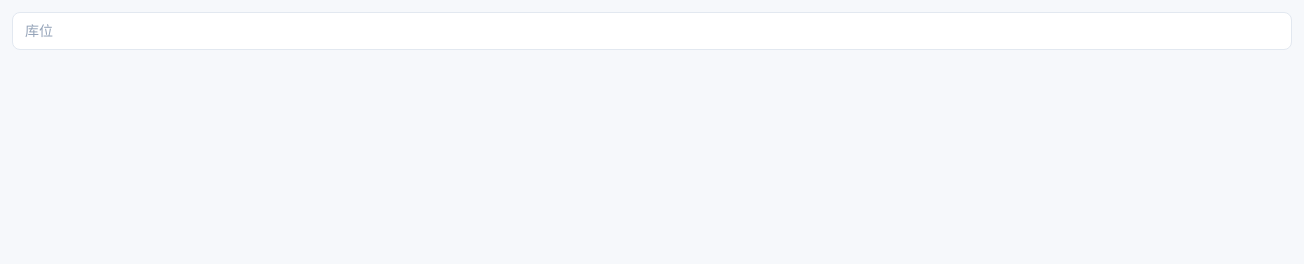
Test case: SuggestInput（库位候选输入） › 聚焦后展示候选，且符合 combobox 语义
Step 1. Click the dropdown → (652, 31), box [12,12,1292,50]
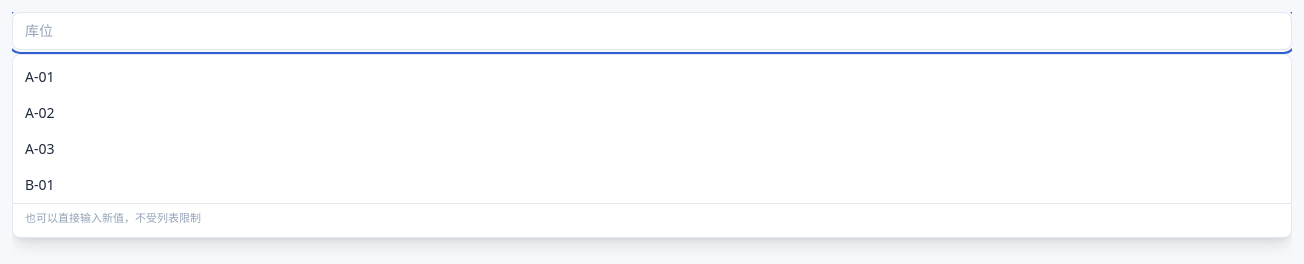
Expected: the list is shown
Expected: the number of options is 4, [25,67,54,86]; [25,103,54,122]; [25,139,54,158]; [25,175,55,194]
